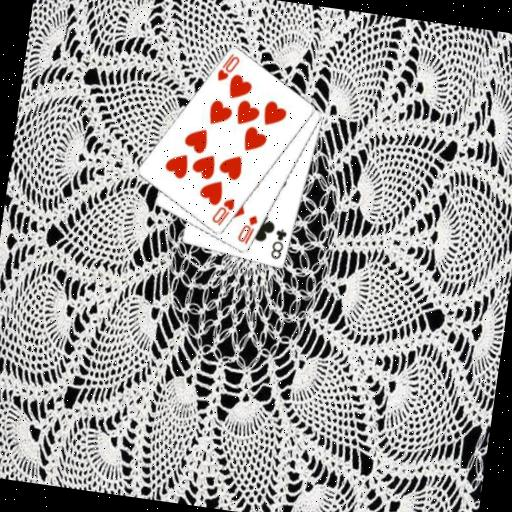10D: (234, 211, 261, 248)
10H: (208, 193, 237, 230), (213, 49, 242, 86)
8C: (267, 225, 290, 262)
